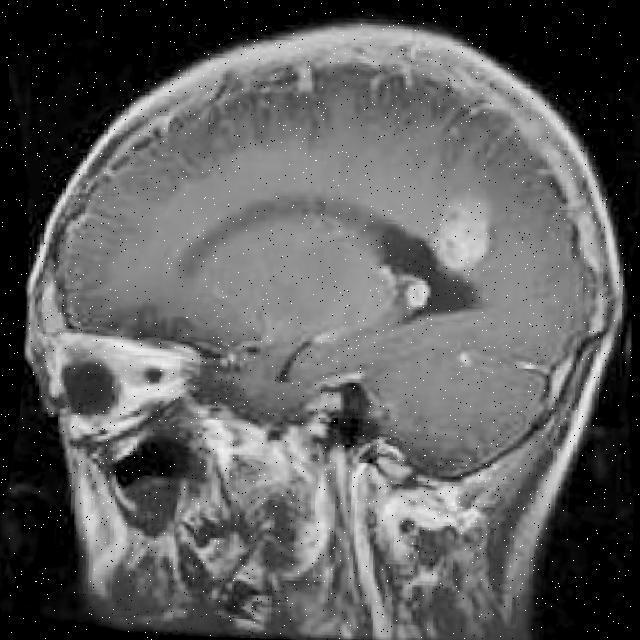EMCI: (425, 101, 519, 258)
